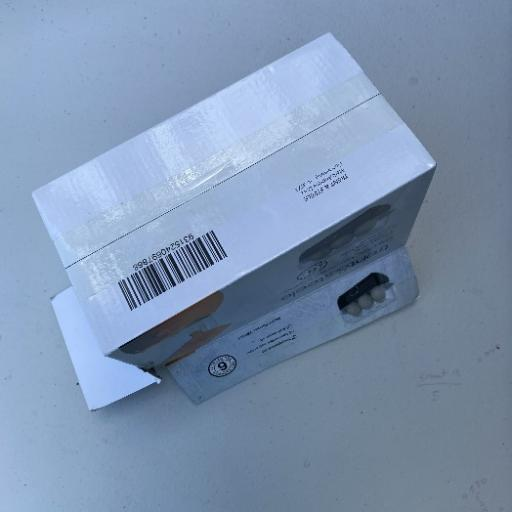Cardboard: (30, 30, 438, 410)
